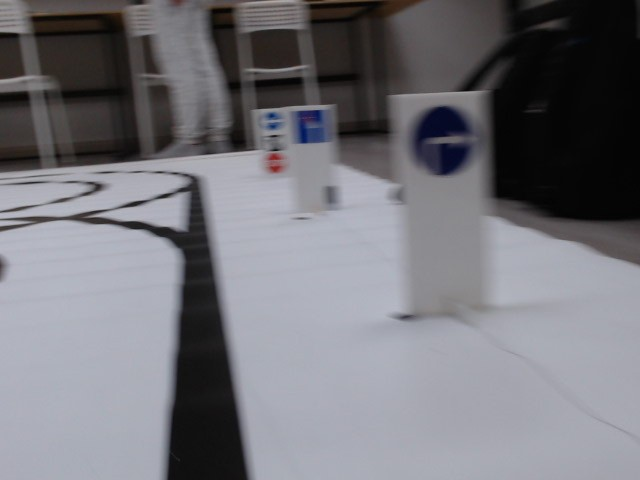Right: (409, 104, 481, 175)
priority_movement: (291, 109, 330, 145)
